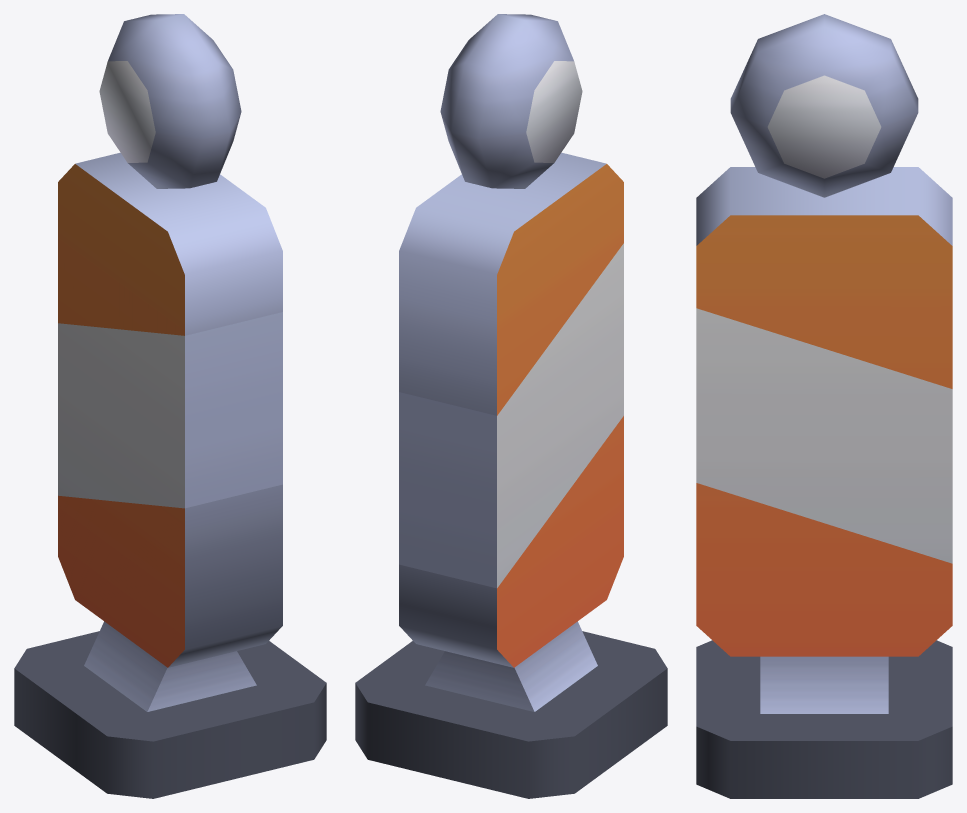
Rendered from construction-light.glb.
3 renders of one model, left to right at view 1: azimuth 30°, elevation 25°; view 2: azimuth 150°, elevation 25°; view 3: azimuth 270°, elevation 25°, orthographic.
Visible parts, largest first — view 1: construction-light; view 2: construction-light; view 3: construction-light.
Boxes of the visible parts, x1,y1,x2,y2 form: construction-light: [14, 14, 326, 798]; construction-light: [355, 14, 667, 798]; construction-light: [696, 14, 952, 798].
Size of the model in its own units: 0.075 by 0.2337 by 0.075.
1 material, 1 textured.
